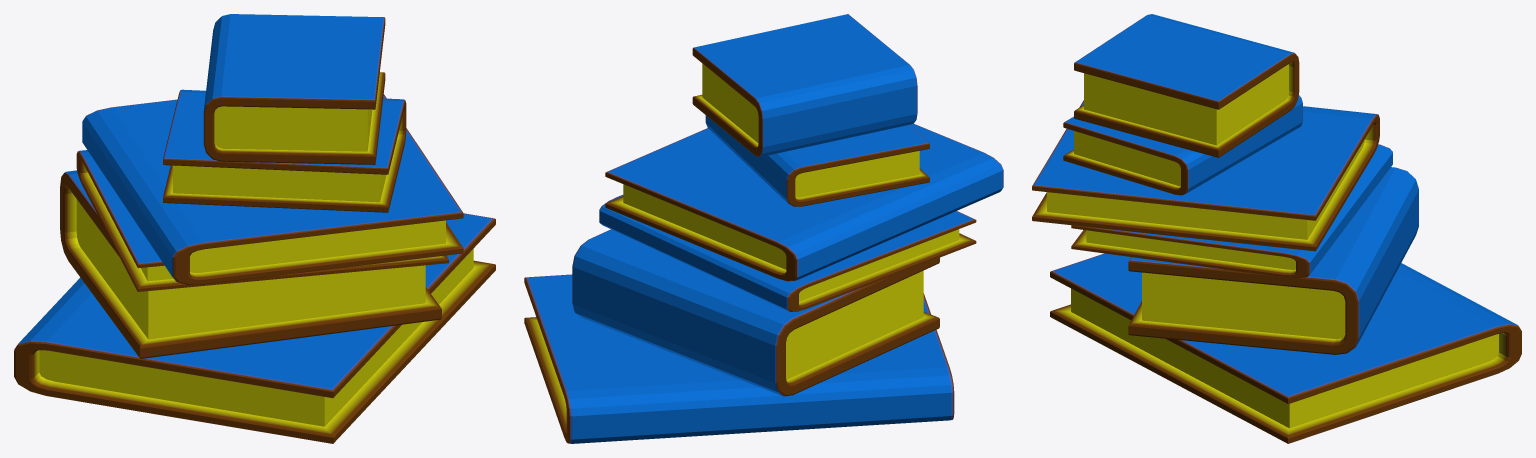
The model's file is Kitchen_SmalProps_Book stack.fbx.
The picture shows the model from 3 angles, left to right: view 1: azimuth 30°, elevation 25°; view 2: azimuth 150°, elevation 25°; view 3: azimuth 270°, elevation 25°; orthographic projection. The views are drawn at different scales.
Parts seen in each view (by area): view 1: Books_random; view 2: Books_random; view 3: Books_random.
Part boxes in pixels (left/top/right/bottom): Books_random: left=14, top=14, right=495, bottom=443; Books_random: left=524, top=14, right=1003, bottom=443; Books_random: left=1032, top=14, right=1521, bottom=443.
Size of the model in its own units: 1.65 by 1.05 by 1.67.
